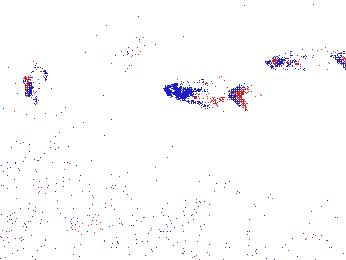redtail glassfish: (163, 74, 249, 112), (262, 44, 344, 75), (22, 60, 58, 102)
